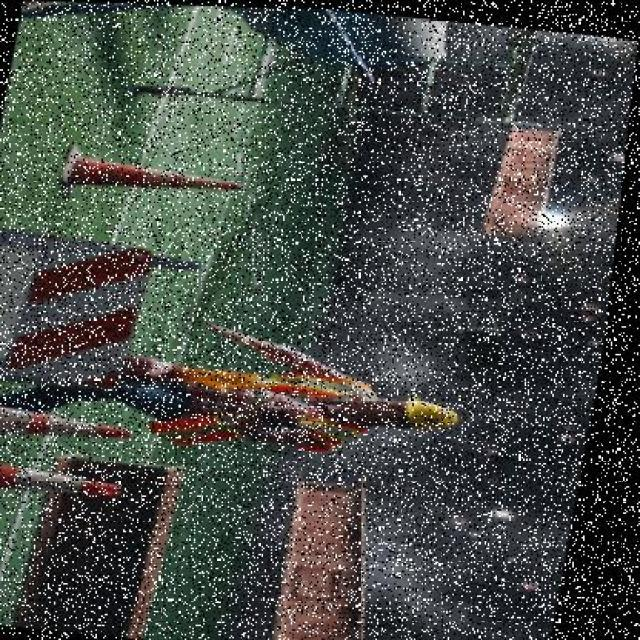helmet: (406, 389, 472, 433)
vest: (157, 358, 383, 456)
